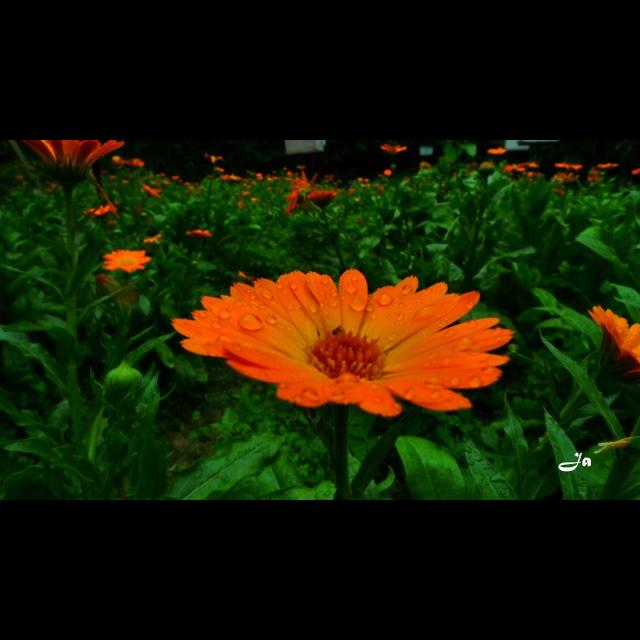Flower: (169, 260, 515, 420), (32, 140, 126, 190), (587, 304, 639, 372), (102, 248, 154, 268), (306, 190, 334, 208), (379, 144, 405, 154), (488, 147, 508, 155)
